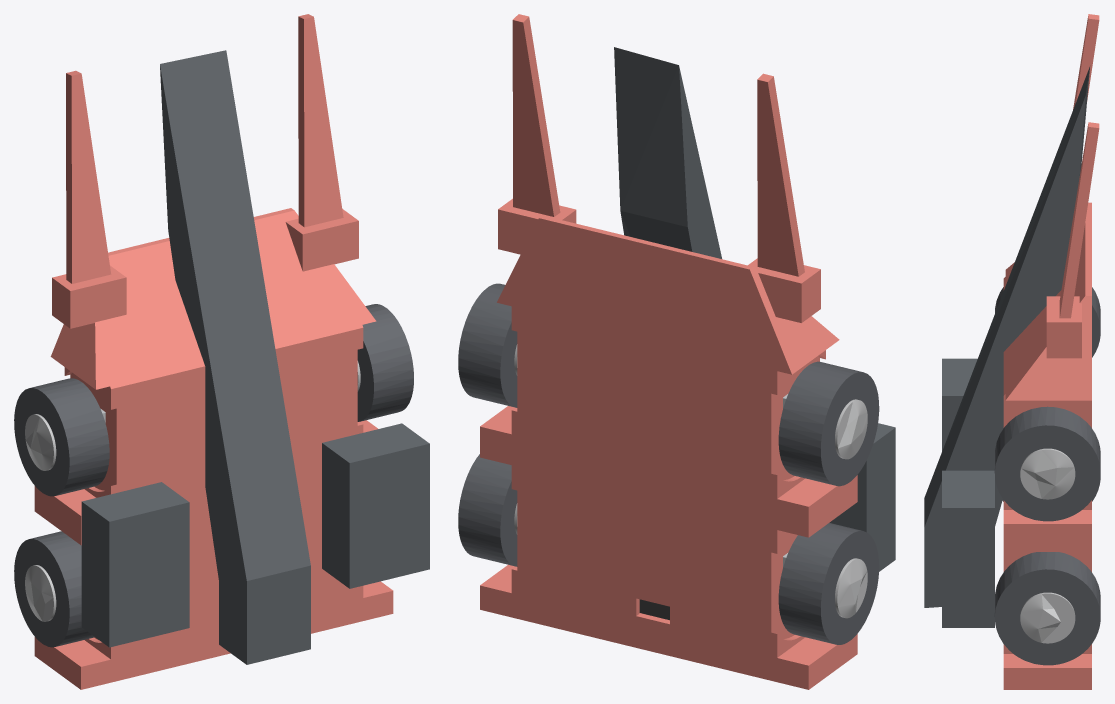
Rendered from elevron_red.glb.
3 views of the same model, side by side, from view 1: azimuth 30°, elevation 25°; view 2: azimuth 150°, elevation 25°; view 3: azimuth 270°, elevation 25° (orthographic). The views are drawn at different scales.
Visible parts, largest first — view 1: chassis, lift_arm, pod_r, pod_l, wheel_r1, fork_1, fork_0, wheel_r0, wheel_l1, dt_hub_wheel_r1, dt_hub_wheel_r0; view 2: chassis, lift_arm, wheel_r1, wheel_r0, fork_0, fork_1, wheel_l1, wheel_l0, pod_r, dt_hub_wheel_r0, dt_hub_wheel_r1; view 3: lift_arm, chassis, pod_l, wheel_l1, wheel_l0, fork_1, dt_hub_wheel_l0, dt_hub_wheel_l1, pod_r, fork_0, wheel_r1.
Part boxes in pixels (bbox=[...]): chassis: bbox=[34, 208, 393, 689]; lift_arm: bbox=[160, 50, 310, 664]; pod_r: bbox=[81, 482, 189, 647]; pod_l: bbox=[322, 423, 429, 588]; wheel_r1: bbox=[14, 378, 109, 496]; fork_1: bbox=[298, 14, 343, 227]; fork_0: bbox=[66, 70, 111, 283]; wheel_r0: bbox=[14, 531, 94, 647]; wheel_l1: bbox=[357, 304, 413, 421]; dt_hub_wheel_r1: bbox=[25, 414, 56, 470]; dt_hub_wheel_r0: bbox=[25, 565, 56, 621]; chassis: bbox=[480, 198, 857, 689]; lift_arm: bbox=[614, 47, 721, 258]; wheel_r1: bbox=[778, 361, 879, 486]; wheel_r0: bbox=[778, 523, 879, 644]; fork_0: bbox=[757, 73, 804, 276]; fork_1: bbox=[512, 14, 560, 216]; wheel_l1: bbox=[458, 283, 517, 407]; wheel_l0: bbox=[458, 454, 517, 566]; pod_r: bbox=[829, 423, 895, 571]; dt_hub_wheel_r0: bbox=[835, 558, 867, 618]; dt_hub_wheel_r1: bbox=[835, 399, 867, 459]; lift_arm: bbox=[924, 67, 1089, 607]; chassis: bbox=[1003, 202, 1091, 689]; pod_l: bbox=[942, 470, 994, 627]; wheel_l1: bbox=[994, 406, 1100, 521]; wheel_l0: bbox=[994, 552, 1100, 665]; fork_1: bbox=[1059, 122, 1099, 318]; dt_hub_wheel_l0: bbox=[1020, 592, 1075, 643]; dt_hub_wheel_l1: bbox=[1020, 448, 1075, 499]; pod_r: bbox=[942, 358, 977, 451]; fork_0: bbox=[1073, 14, 1099, 109]; wheel_r1: bbox=[995, 287, 1100, 357].
Bounding box in the file's own units: 89.86 × 137 × 40.
